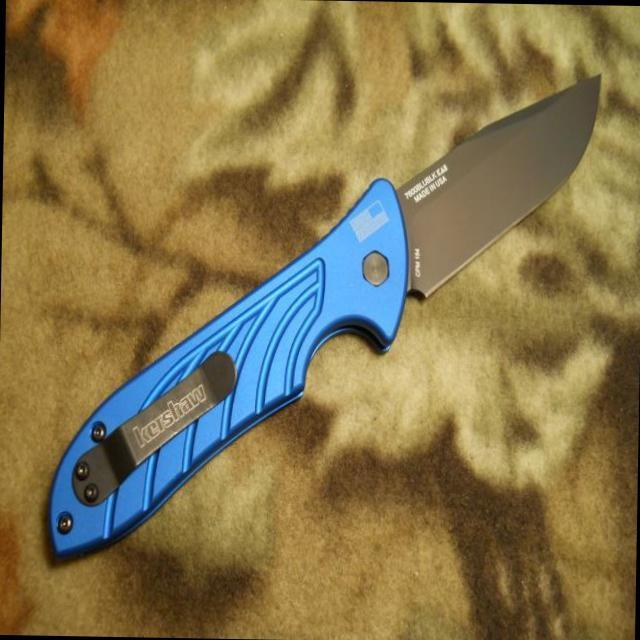Knife: (380, 59, 606, 296)
